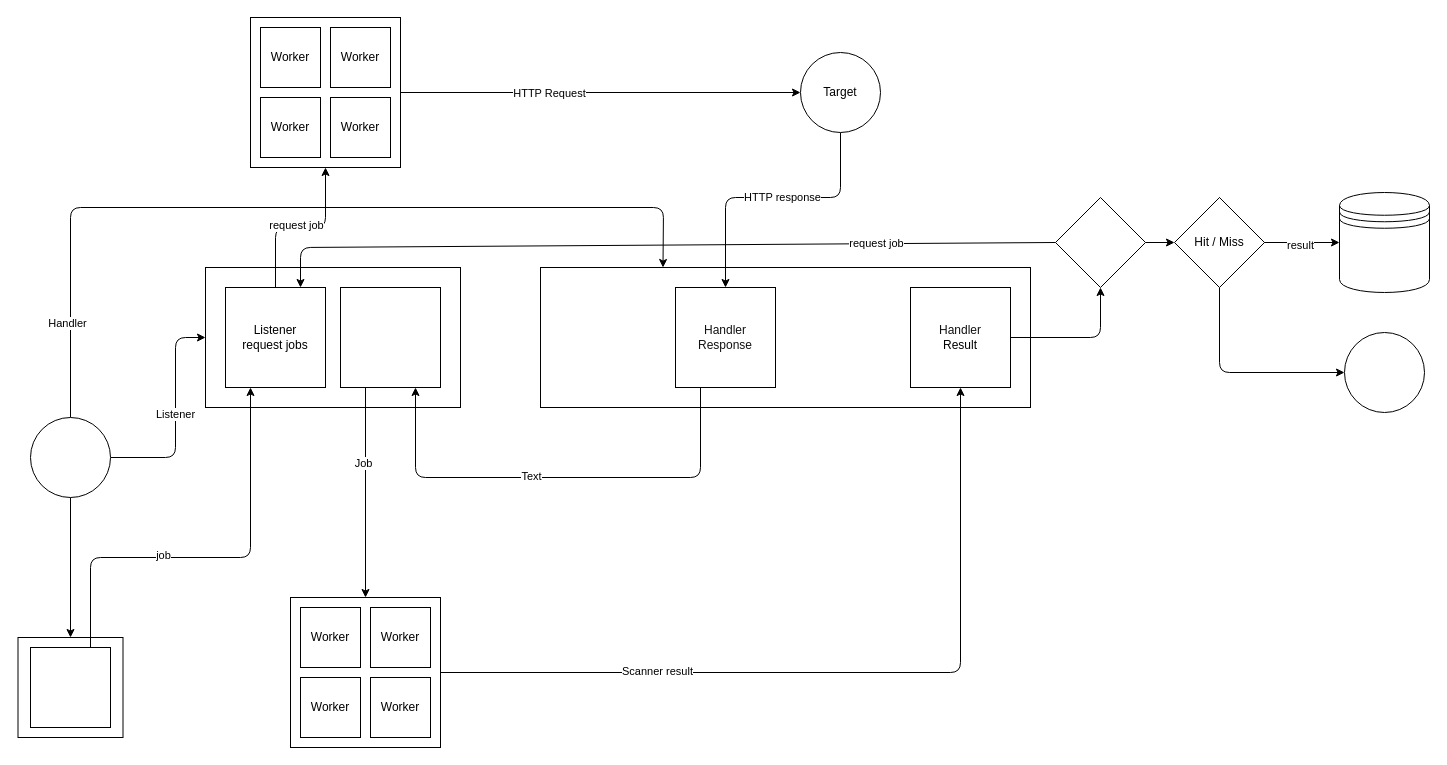
Some shapes in this 1447 by 765 pixel diagram are drawn without their labels. Each missing label, with the box of its shape:
Ignore: (1344, 332, 1424, 412)
Jobs: (30, 646, 110, 728)
Listener scanner jobs: (340, 286, 440, 388)
New job / Done: (1054, 196, 1146, 288)
Output: (1338, 192, 1430, 292)
Runner: (30, 416, 110, 498)
